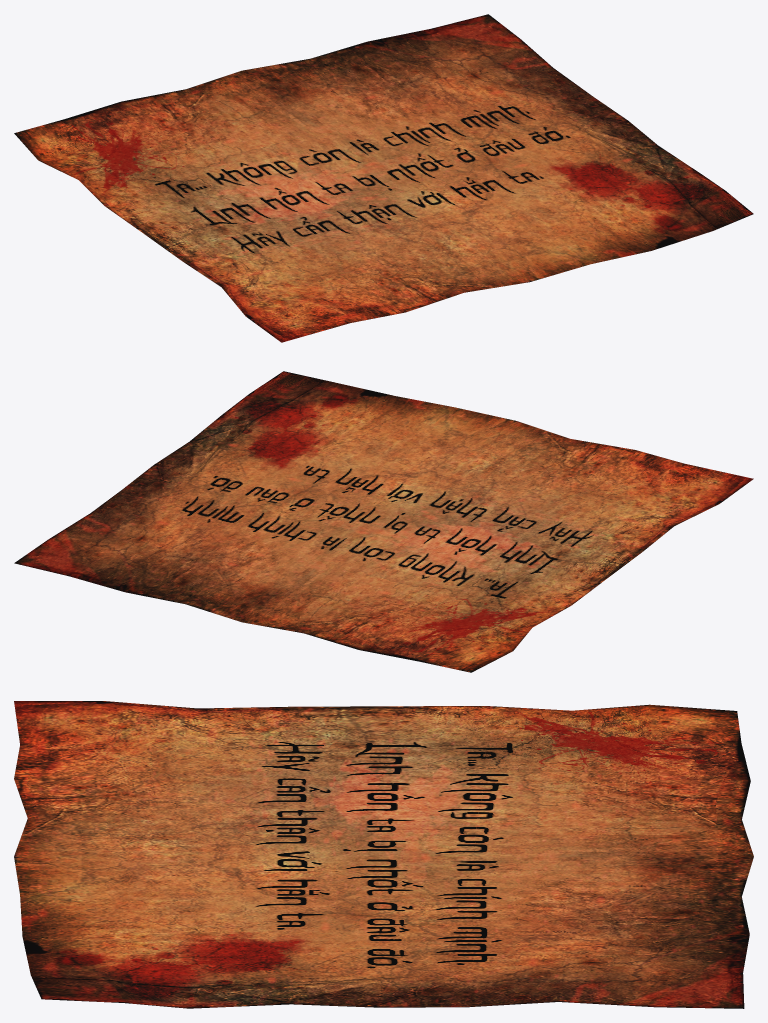
File: PhantomChat.fbx
3 views of the same model, one above another, from view 1: azimuth 30°, elevation 25°; view 2: azimuth 150°, elevation 25°; view 3: azimuth 270°, elevation 25° (orthographic). The views are drawn at different scales.
Parts seen in each view (by area): view 1: Plane; view 2: Plane; view 3: Plane.
Part boxes in pixels (bbox=[...]): Plane: bbox=[14, 14, 753, 342]; Plane: bbox=[14, 371, 753, 672]; Plane: bbox=[14, 701, 753, 1008].
Bounding box in the file's own units: 198 × 1.81 × 201.
Materials: 1 (1 with a texture image).
